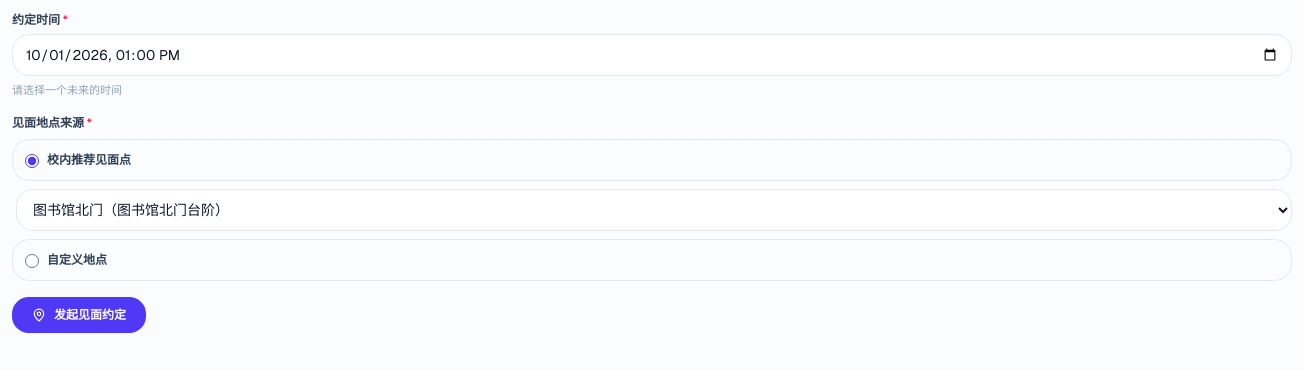
Test: MeetupProposalForm › 切换来源：CUSTOM ↔ MEETUP_POINT 输入通道互斥切换
The width and height of the screenshot is (1304, 370).
Click the radio button labelled "自定义地点" at coordinates (32, 260), box left=25, top=254, right=39, bottom=268
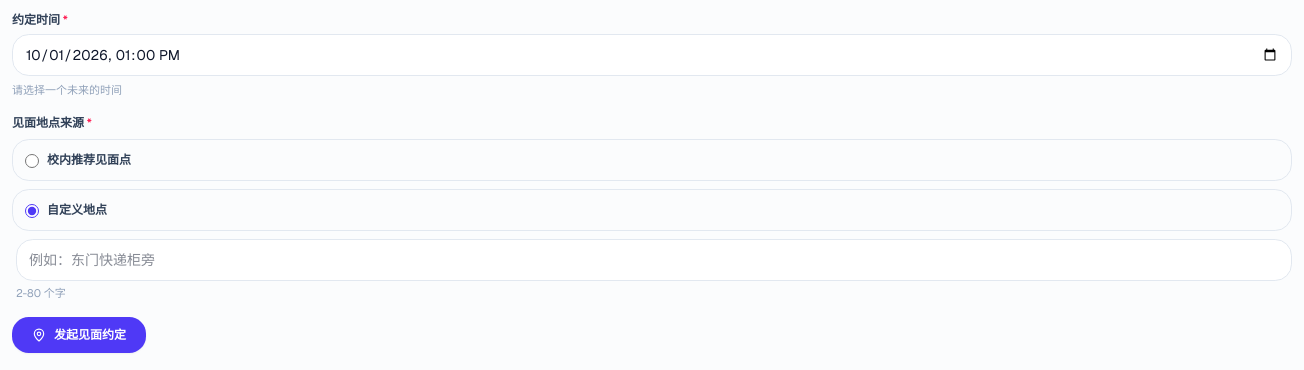
Expected: the dropdown labelled "选择校内推荐见面点" is not shown
Now the field named "自定义见面地点" is shown, box left=16, top=238, right=1292, bottom=280
Click the radio button labelled "校内推荐见面点" at coordinates (32, 160), box left=25, top=154, right=39, bottom=168
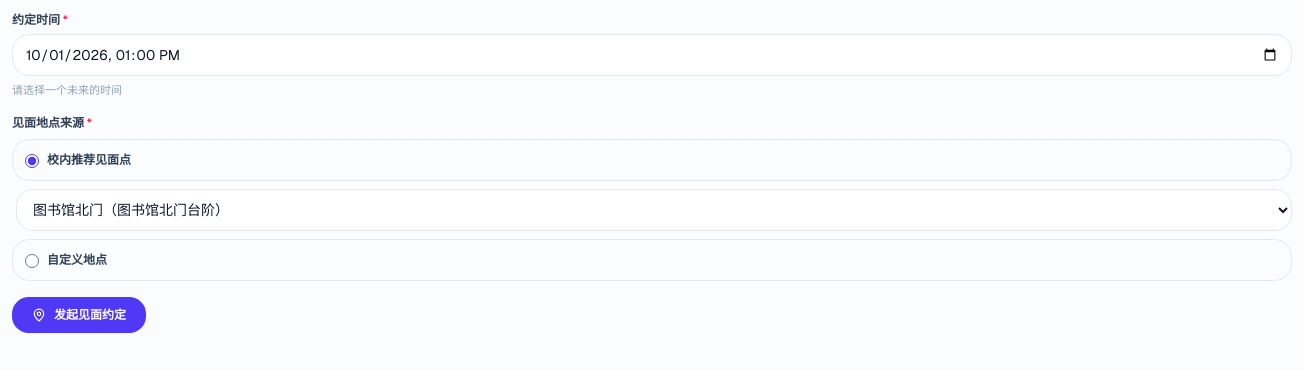
Expected: the field labelled "自定义见面地点" is not shown
Now the dropdown named "选择校内推荐见面点" is shown, box left=16, top=188, right=1292, bottom=230
